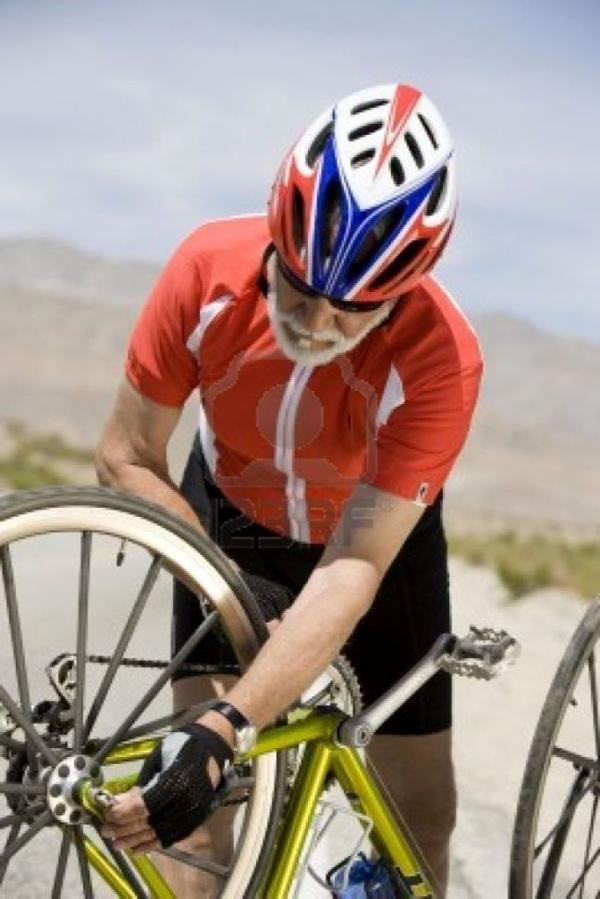person: (95, 78, 483, 895)
